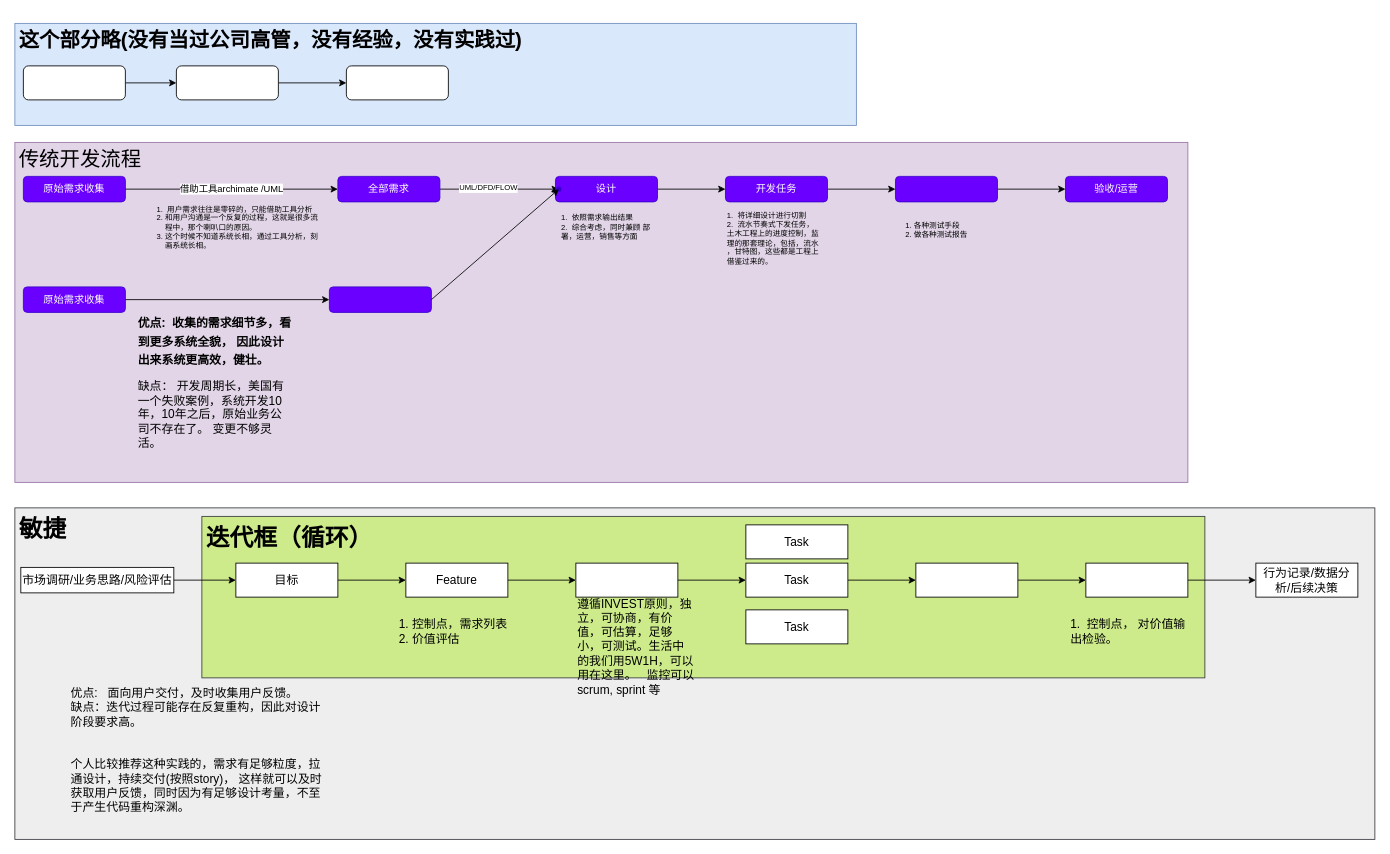
This 1390x854 diagram has some shape labels left out. Each missing label, with the centre of its shape:
"PROD" belongs at point 1136,579.
"UAT" belongs at point 966,579.
"Userstroy" belongs at point 626,579.
"业务/ 应用/技术" belongs at point 397,82.
"公司愿景" belongs at point 74,82.
"测试" belongs at point 946,189.
"目标/战略" belongs at point 227,82.
"需求变更（少量）" belongs at point 380,299.
